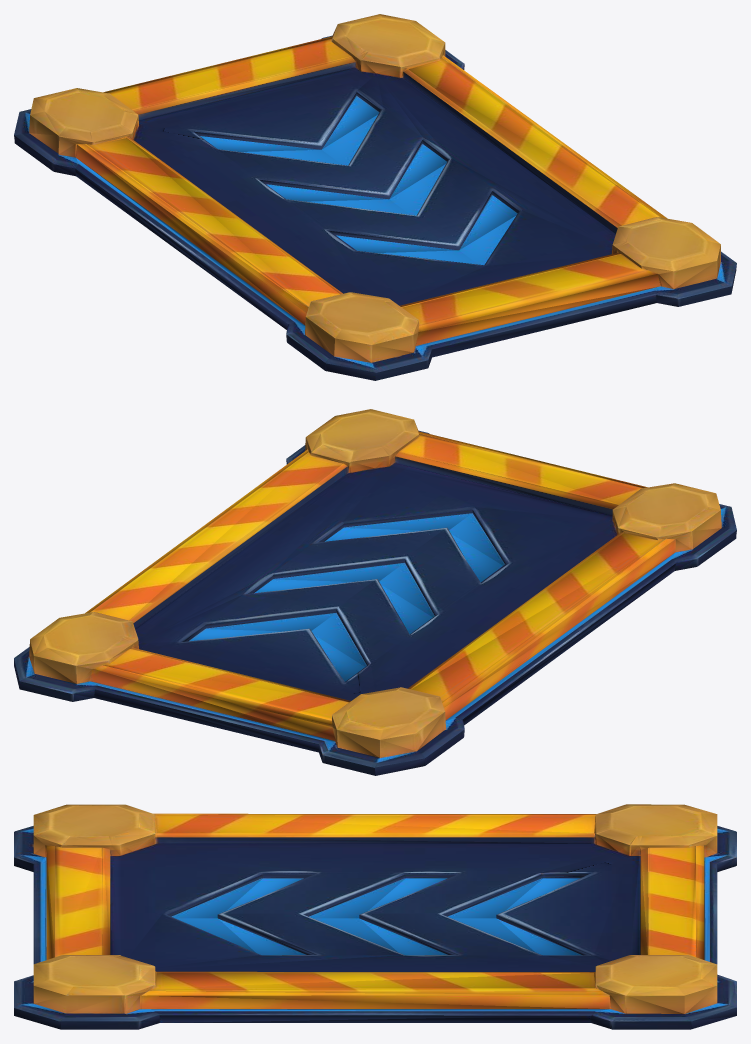
Rendered from boost_pad.glb.
The picture shows the model from 3 angles, top to bottom: view 1: azimuth 30°, elevation 25°; view 2: azimuth 150°, elevation 25°; view 3: azimuth 270°, elevation 25°; orthographic projection.
Parts seen in each view (by area): view 1: tripo_node_282c9f01-274f-4b5b-b6ff-8a912e6f143a; view 2: tripo_node_282c9f01-274f-4b5b-b6ff-8a912e6f143a; view 3: tripo_node_282c9f01-274f-4b5b-b6ff-8a912e6f143a.
Part boxes in pixels (bbox=[...]): tripo_node_282c9f01-274f-4b5b-b6ff-8a912e6f143a: bbox=[14, 14, 736, 380]; tripo_node_282c9f01-274f-4b5b-b6ff-8a912e6f143a: bbox=[14, 409, 736, 775]; tripo_node_282c9f01-274f-4b5b-b6ff-8a912e6f143a: bbox=[14, 804, 736, 1029].
Size of the model in its own units: 16.1 by 1.2 by 24.2.
1 material, 1 textured.
